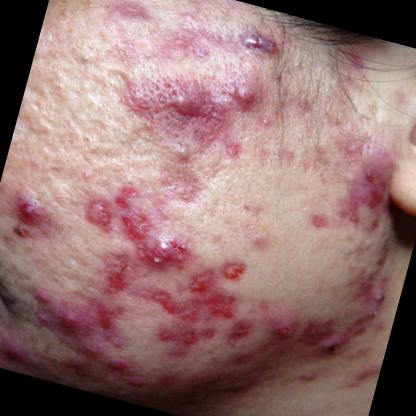Acne: (0, 178, 58, 229), (229, 22, 279, 68), (154, 82, 203, 126), (139, 229, 183, 274), (167, 139, 202, 172)
